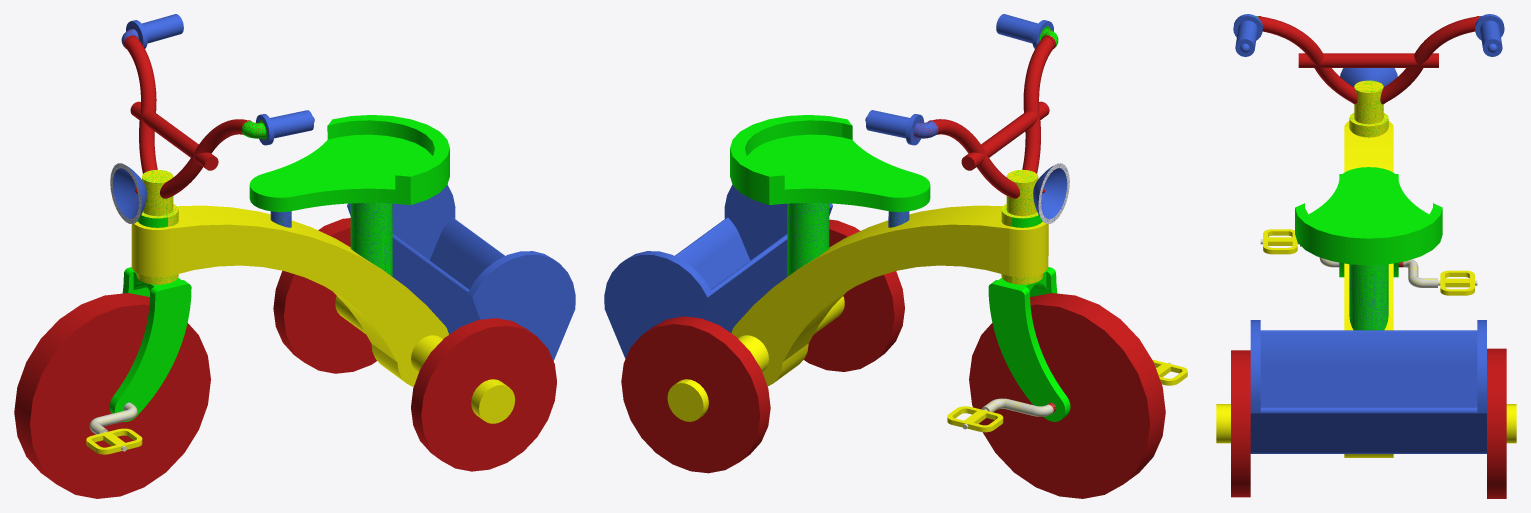
Rendered from tricycle.dae.
3 views of the same model, side by side, from view 1: azimuth 30°, elevation 25°; view 2: azimuth 150°, elevation 25°; view 3: azimuth 270°, elevation 25° (orthographic). The views are drawn at different scales.
Visible parts, largest first — view 1: group_0 (×15), group_1, group_2 (×2); view 2: group_0 (×14), group_1, group_2 (×2); view 3: group_1, group_0 (×14), group_2 (×2).
Boxes of the visible parts, x1,y1,x2,y2 form: group_0 (×15): [14, 14, 556, 498]; group_1: [347, 185, 575, 360]; group_2 (×2): [126, 37, 246, 198]; group_0 (×14): [621, 14, 1165, 498]; group_1: [604, 184, 832, 358]; group_2 (×2): [933, 37, 1053, 198]; group_1: [1250, 320, 1486, 453]; group_0 (×14): [1216, 20, 1516, 498]; group_2 (×2): [1261, 16, 1476, 104].
Size of the model in its own units: 28.81 by 16.21 by 22.53.
